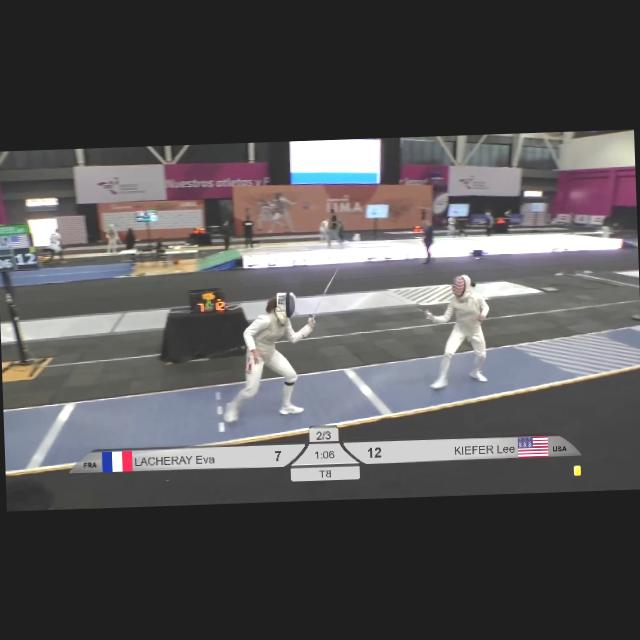blade: (307, 264, 345, 322), (375, 286, 434, 320)
